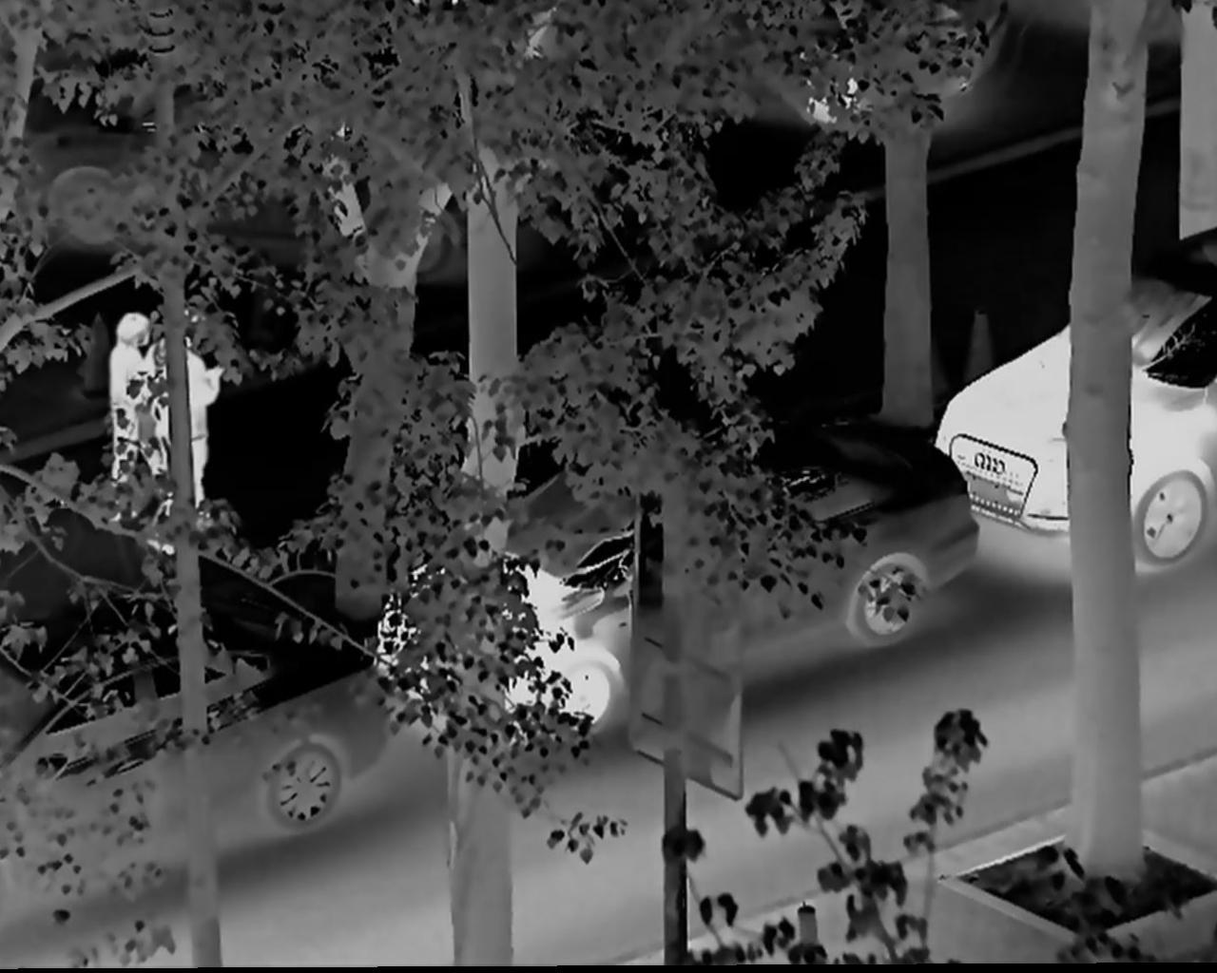person: (144, 344, 222, 524), (103, 306, 168, 521)
